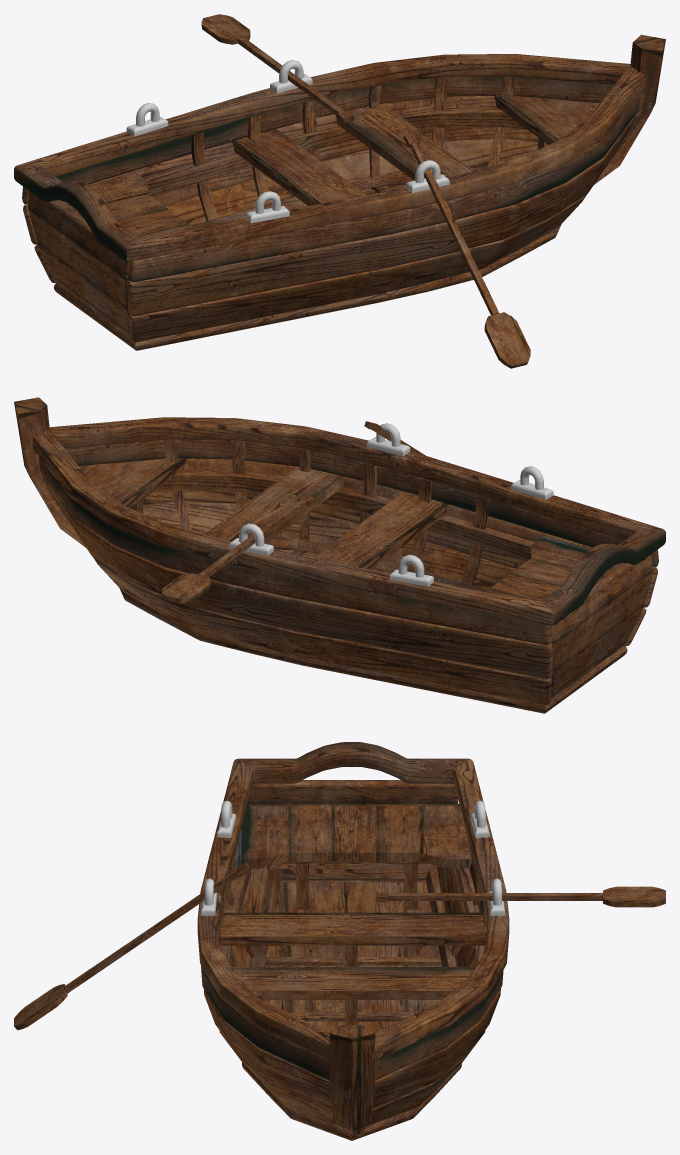
File: Boat.fbx
3 views of the same model, one above another, from view 1: azimuth 30°, elevation 25°; view 2: azimuth 150°, elevation 25°; view 3: azimuth 270°, elevation 25° (orthographic). The views are drawn at different scales.
Visible parts, largest first — view 1: boat; view 2: boat; view 3: boat.
Part boxes in pixels (left/top/right/bottom): boat: left=14, top=14, right=665, bottom=368; boat: left=14, top=397, right=665, bottom=713; boat: left=14, top=742, right=665, bottom=1140.
Bounding box in the file's own units: 602 × 157 × 542.
